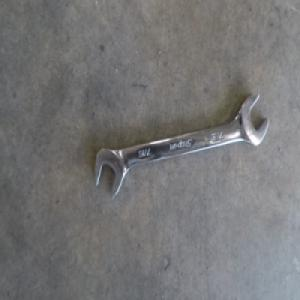Wrench: (96, 90, 271, 194)
